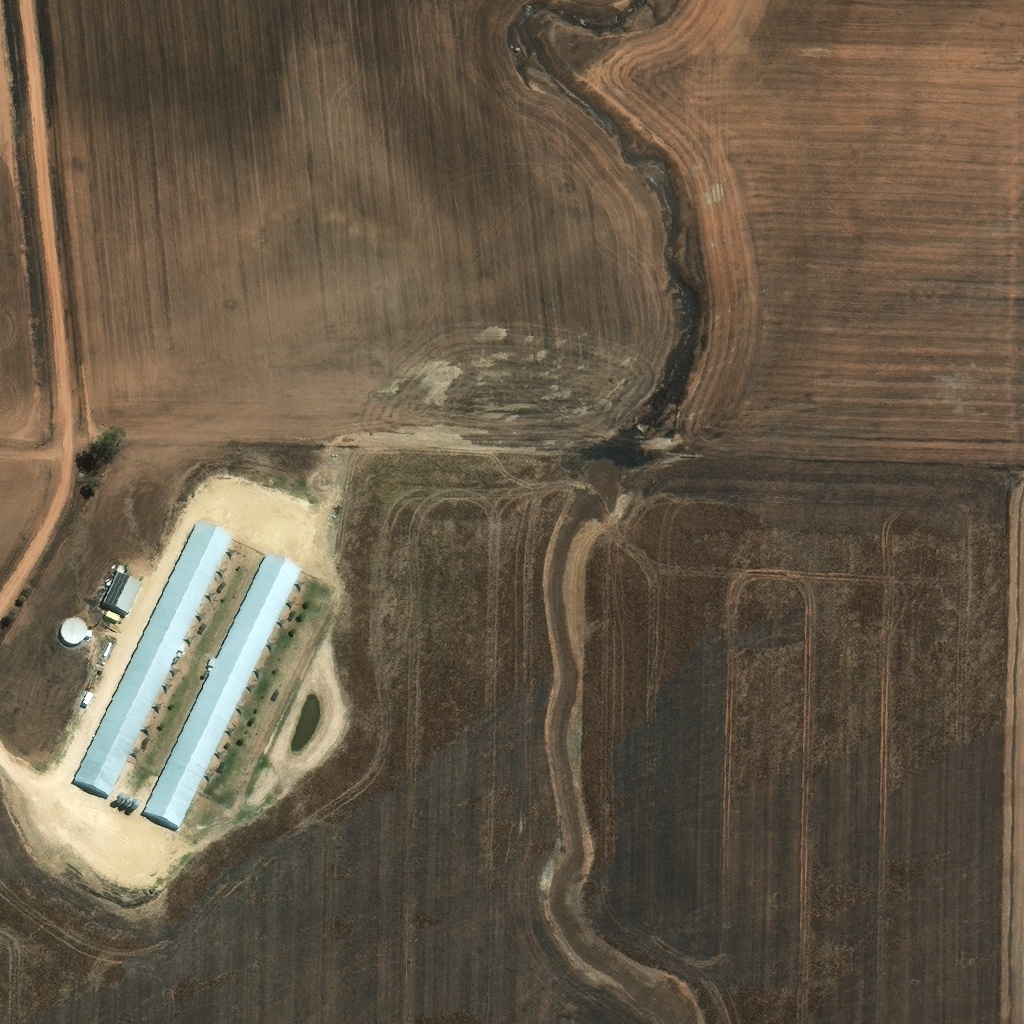0 no-damage: (142, 554, 303, 830), (72, 522, 233, 797), (99, 573, 142, 617), (60, 617, 94, 644), (116, 794, 135, 812), (82, 691, 94, 707), (103, 640, 114, 657), (105, 611, 119, 623), (115, 566, 125, 574)
4 un-classified: (343, 553, 353, 574)
